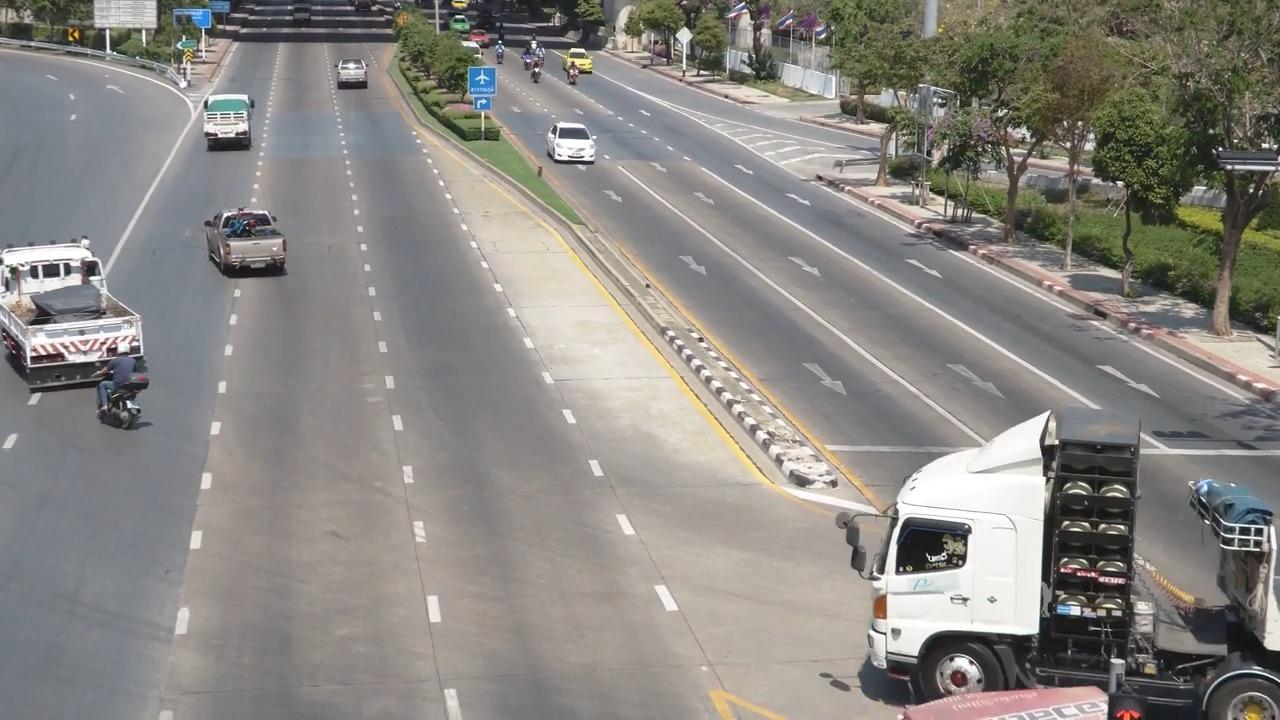CAR: (0, 235, 155, 388), (194, 196, 314, 297), (186, 89, 266, 170), (532, 105, 603, 180), (318, 55, 388, 109), (281, 0, 326, 43)
HGV_BUS: (828, 386, 1280, 720)
MOTOR: (85, 329, 171, 440)
